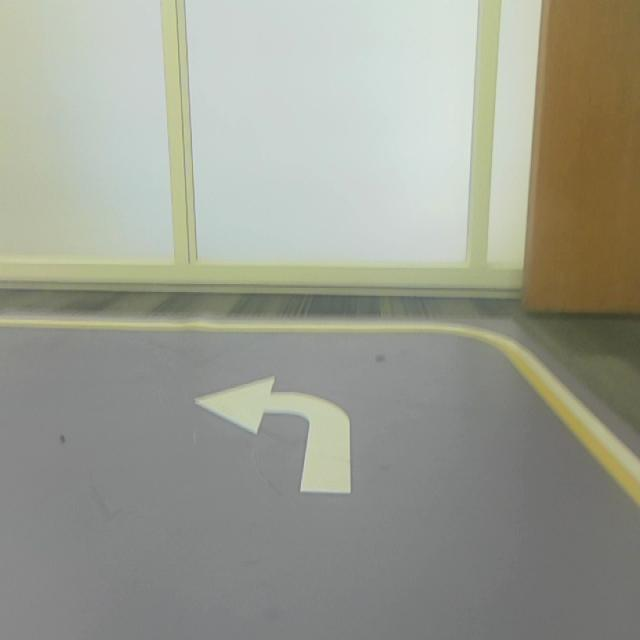right_lane: (499, 342, 640, 507)
